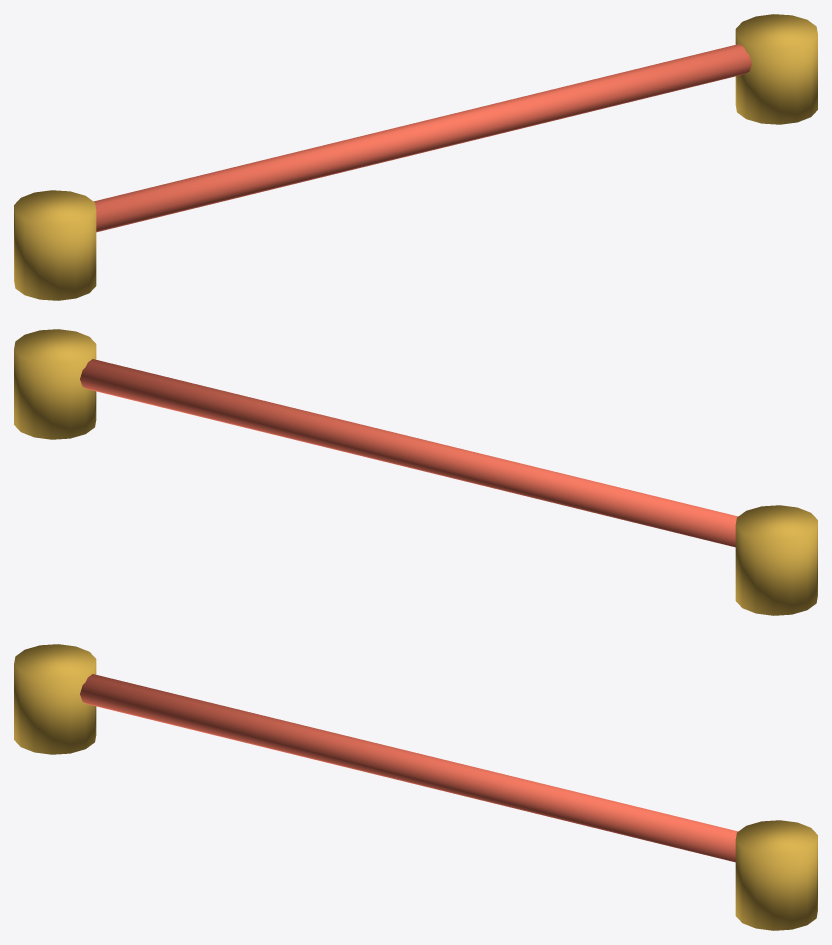
File: TaskBoard_DependencyLink.fbx
3 renders of one model, top to bottom at view 1: azimuth 30°, elevation 25°; view 2: azimuth 150°, elevation 25°; view 3: azimuth 330°, elevation 25°, orthographic.
Parts seen in each view (by area): view 1: Dependency_Cord, Pin_Start, Pin_End; view 2: Dependency_Cord, Pin_Start, Pin_End; view 3: Dependency_Cord, Pin_End, Pin_Start.
Boxes of the visible parts, <box> form: Dependency_Cord: <box>94,44,751,232</box>; Pin_Start: <box>14,190,96,300</box>; Pin_End: <box>735,14,817,124</box>; Dependency_Cord: <box>80,359,737,547</box>; Pin_Start: <box>735,505,817,615</box>; Pin_End: <box>14,329,96,439</box>; Dependency_Cord: <box>80,674,737,862</box>; Pin_End: <box>735,820,817,930</box>; Pin_Start: <box>14,644,96,754</box>.
Bounding box in the file's own units: 8.78 × 0.8 × 0.8.
